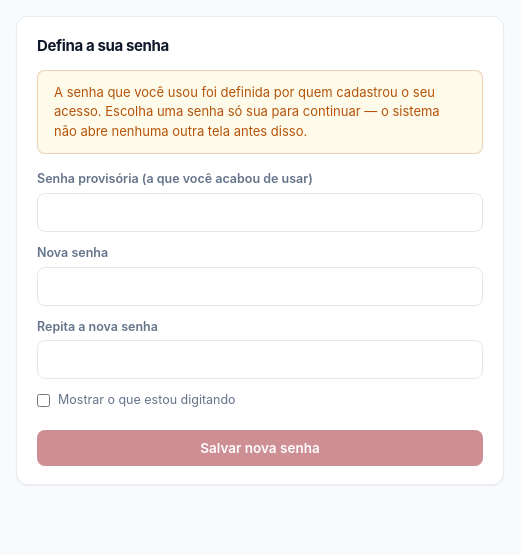
tela de troca de senha › mostra a recusa do servidor e mantém a pessoa na tela
Type "Chutei#2026aqui" into the password field labelled "Senha provisória (a que você acabou de usar)" at (260,212), box [37, 193, 483, 232]
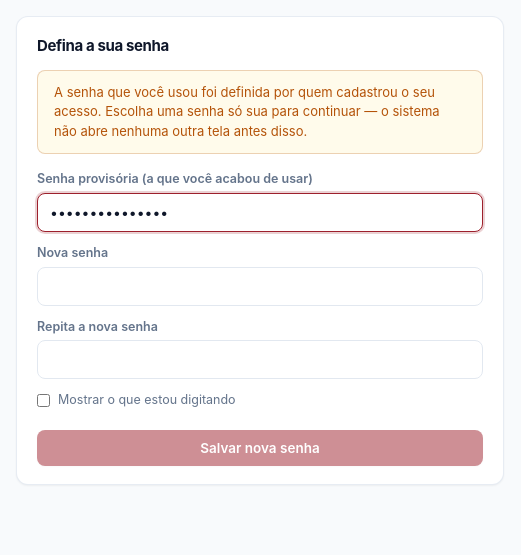
Type "Kx7$paralelo!vento" into the password field labelled "Nova senha" at (260,286), box [37, 266, 483, 306]
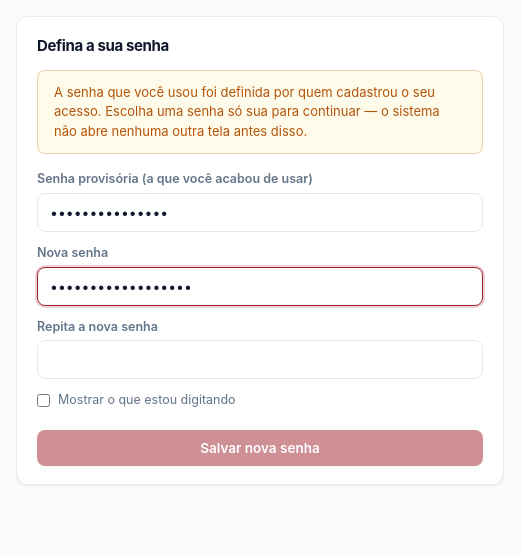
Type "Kx7$paralelo!vento" into the password field labelled "Repita a nova senha" at (260,360), box [37, 340, 483, 379]
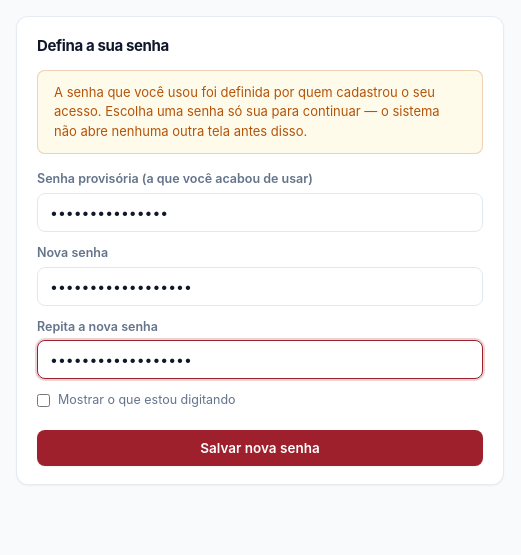
Click the button "Salvar nova senha" at (260,448), box [37, 430, 483, 466]
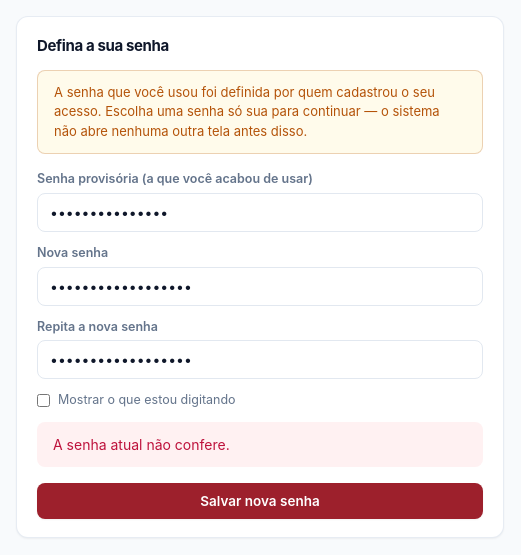
Now the message reads "A senha atual não confere.", box [53, 436, 230, 453]
